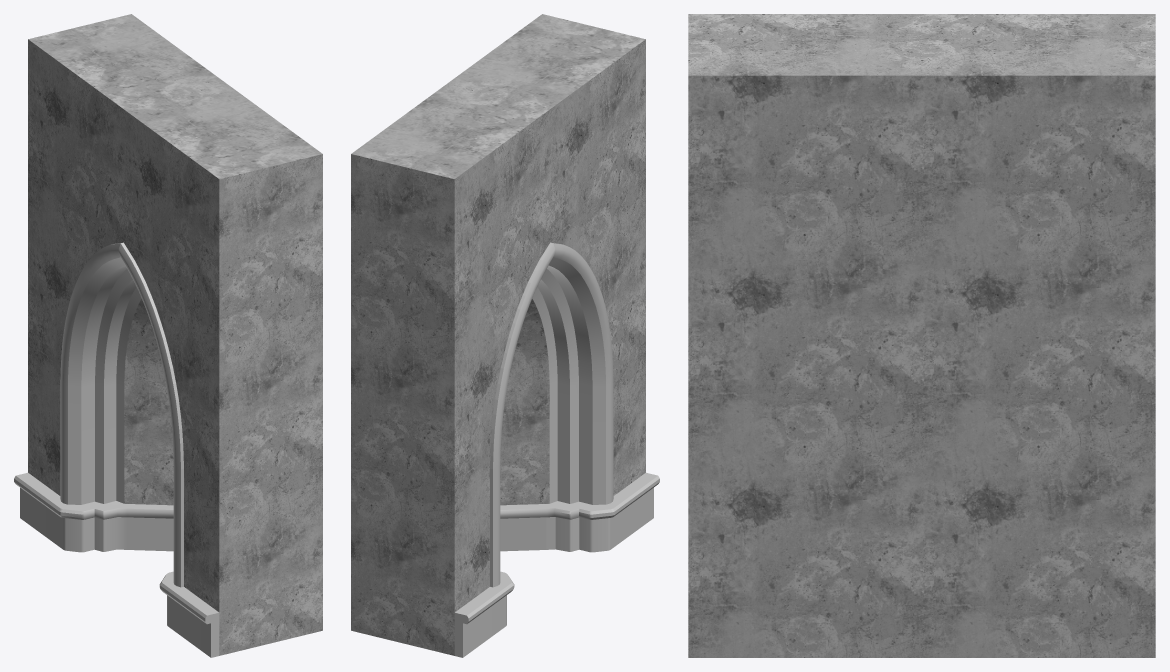
File: SM_HallwayWall_03a.fbx
3 renders of one model, left to right at view 1: azimuth 30°, elevation 25°; view 2: azimuth 150°, elevation 25°; view 3: azimuth 270°, elevation 25°, orthographic. The views are drawn at different scales.
Visible parts, largest first — view 1: SM_HallwayWall_03a_LOD0; view 2: SM_HallwayWall_03a_LOD0; view 3: SM_HallwayWall_03a_LOD0.
Boxes of the visible parts, x1,y1,x2,y2 form: SM_HallwayWall_03a_LOD0: (14, 14, 322, 657); SM_HallwayWall_03a_LOD0: (351, 14, 659, 657); SM_HallwayWall_03a_LOD0: (688, 14, 1155, 657).
Bounding box in the file's own units: 284 × 800 × 1100.
